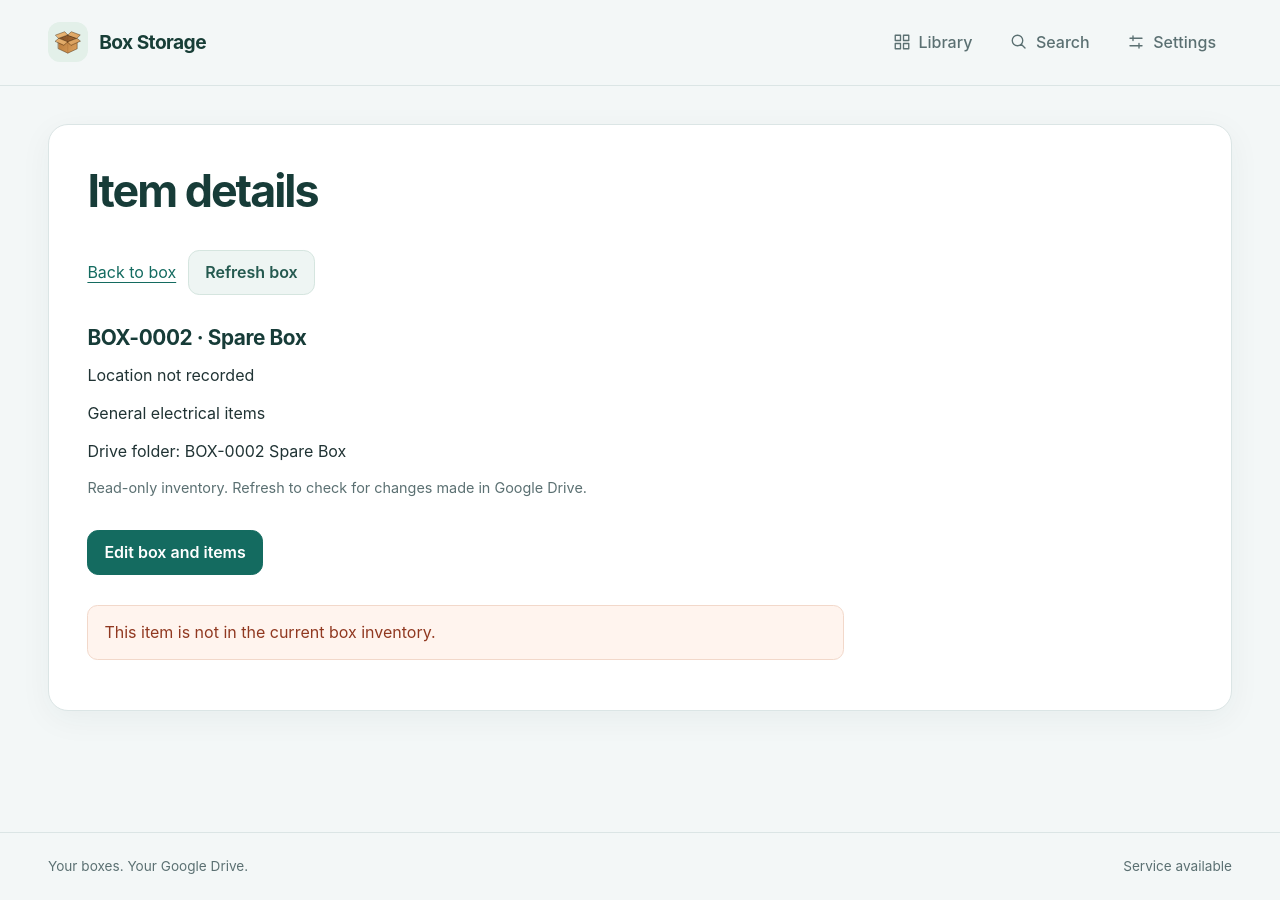
Scenario: inventory screens › opens an empty box and reports a missing item
This screenshot has width=1280, height=900.
Expected: the message "This item is not in the current box inventory." is shown, [87, 605, 844, 660]
Expected: the link "Back to library" is not shown
Click the link "Back to box": [132, 273] box [87, 260, 176, 286]
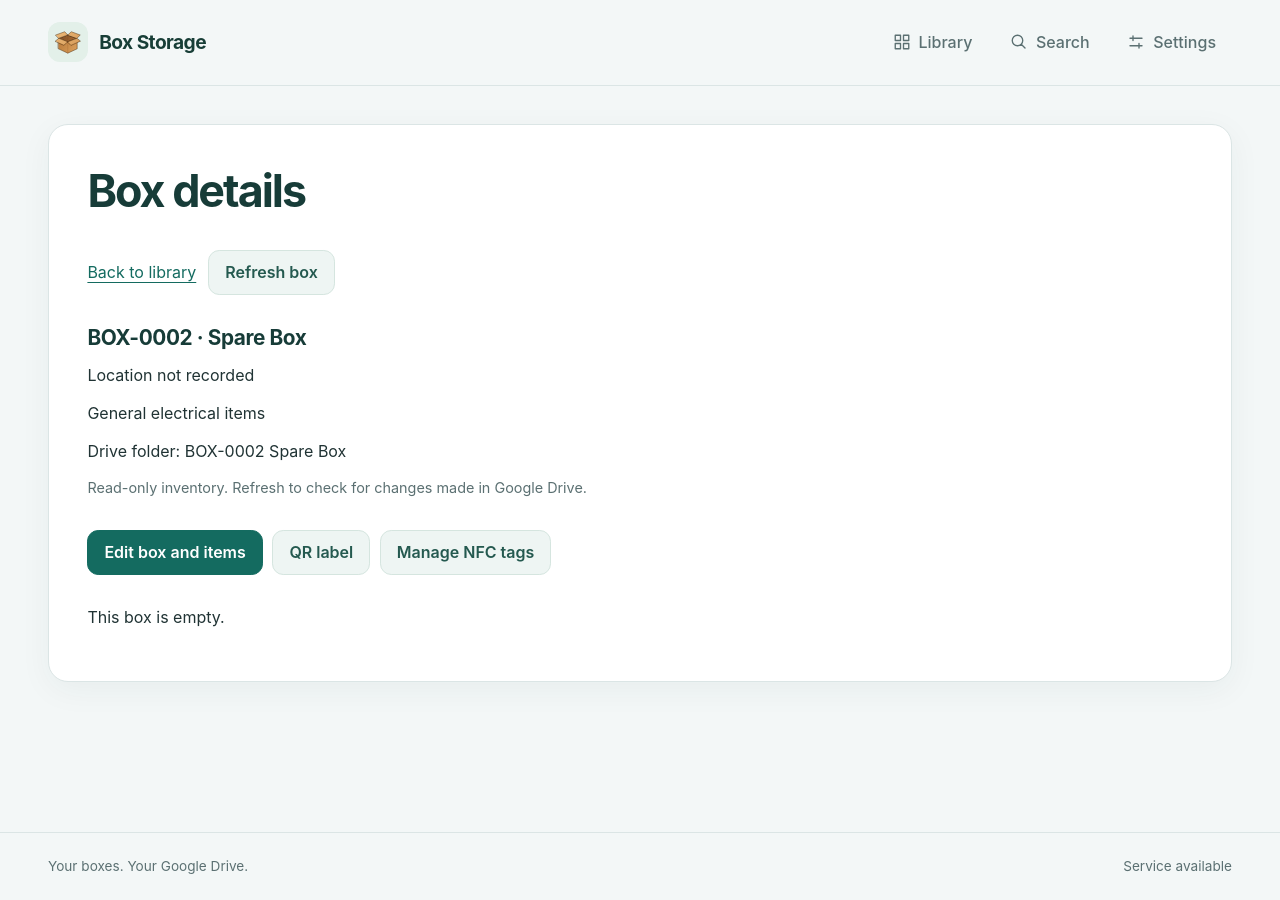
Expected: the text "This box is empty." is shown, [87, 607, 225, 627]
